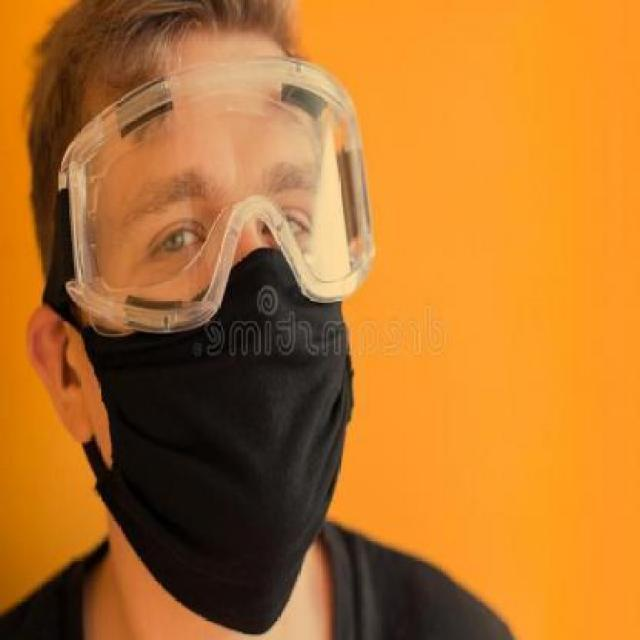Goggles: (29, 42, 382, 344)
